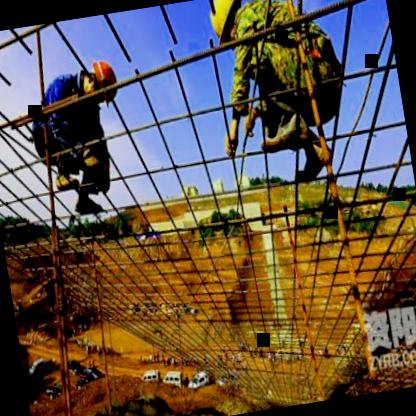helmet: (76, 58, 122, 104), (205, 0, 252, 45)
